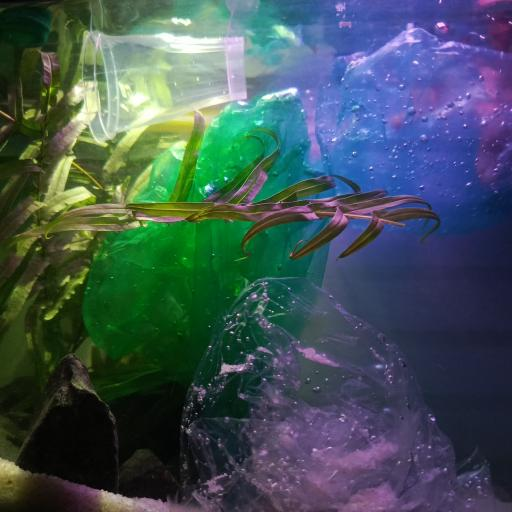bottle_cap: (2, 14, 49, 50)
plastic_bag: (82, 86, 328, 406), (180, 276, 510, 511), (293, 30, 512, 236)
plastic_cup: (79, 29, 248, 141)
